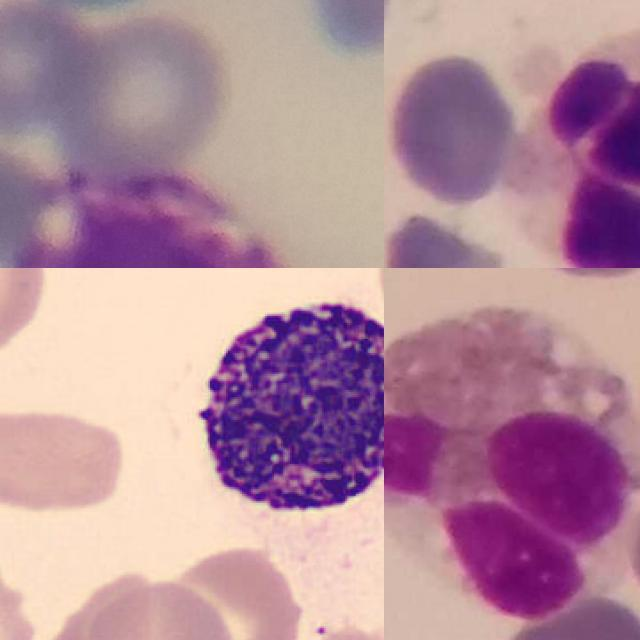Basophil: (178, 277, 384, 554), (15, 170, 305, 268)
Eosinophil: (384, 309, 640, 624)
Neutrophil: (512, 30, 640, 268)
RBC: (160, 540, 309, 640), (0, 402, 130, 516), (83, 573, 240, 640), (0, 268, 57, 367)
